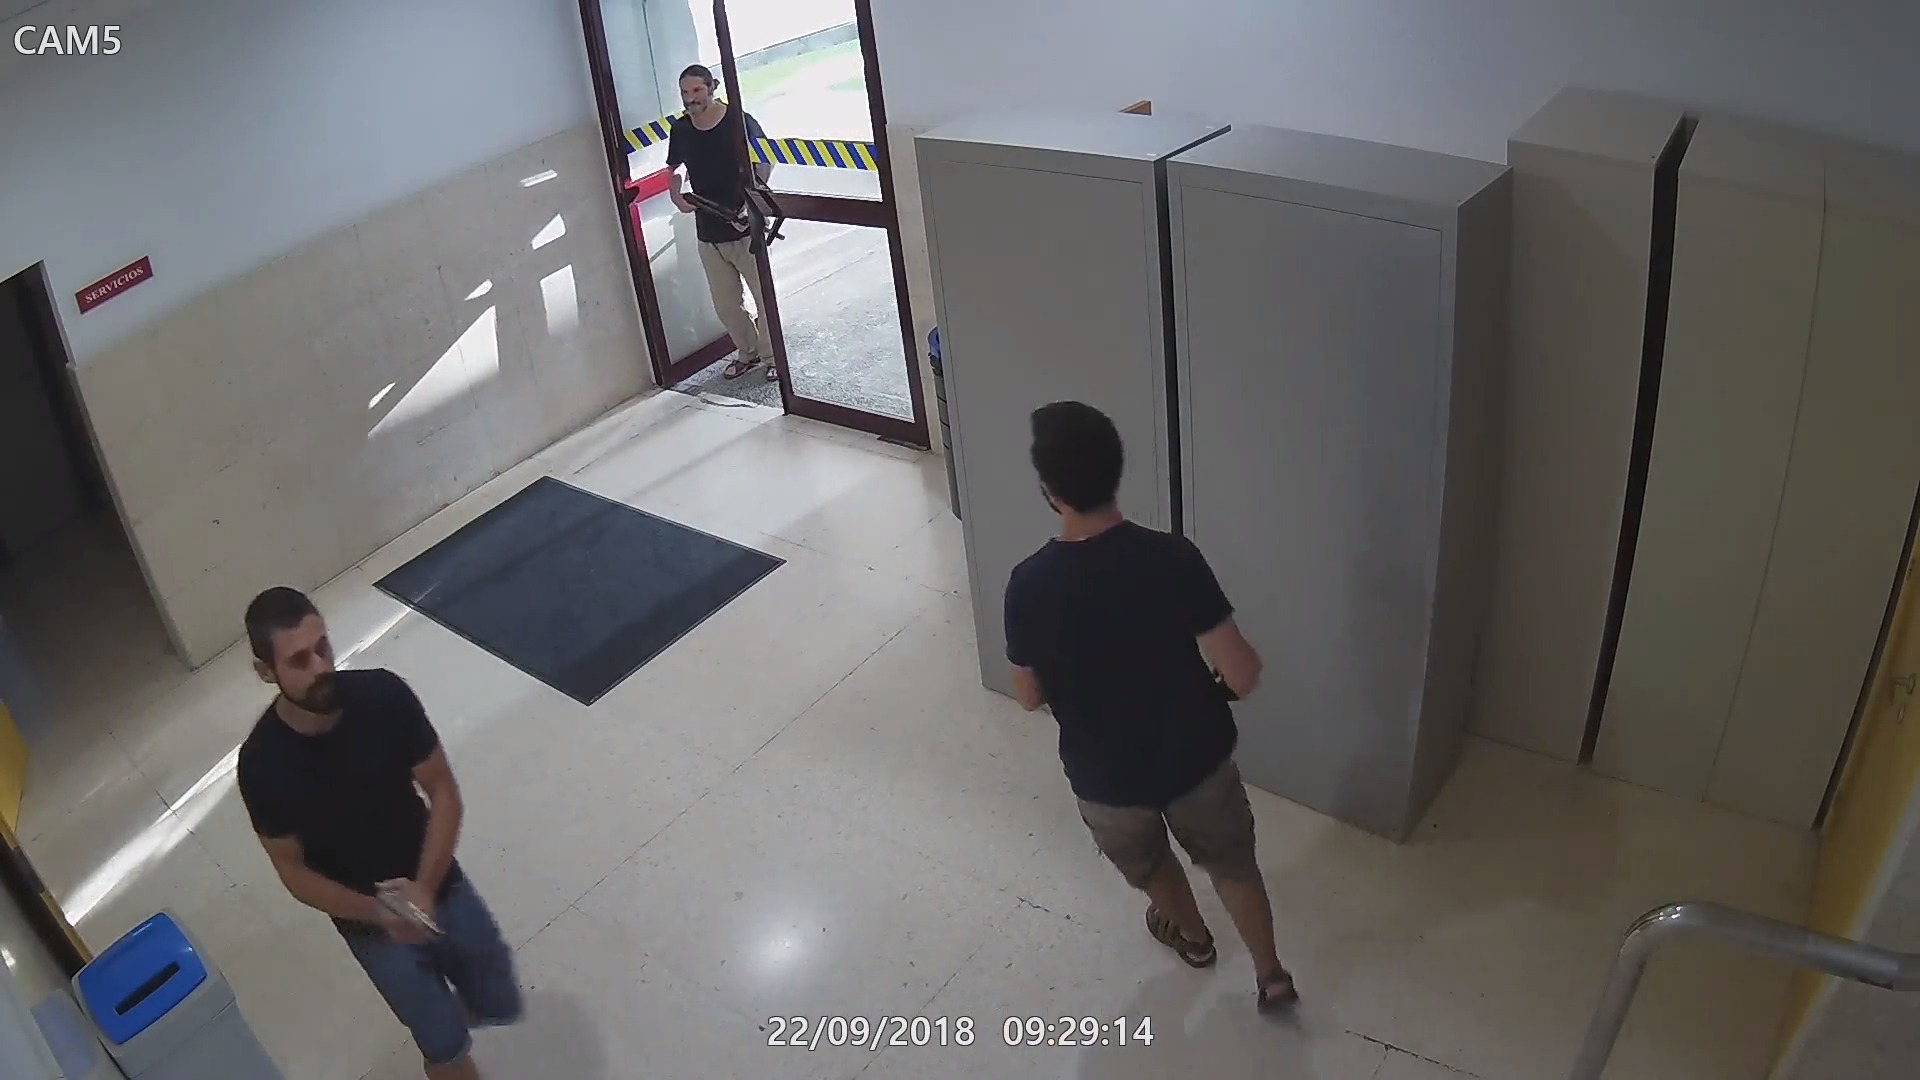Handgun: (367, 876, 444, 953)
Short_rifle: (673, 189, 794, 247)
